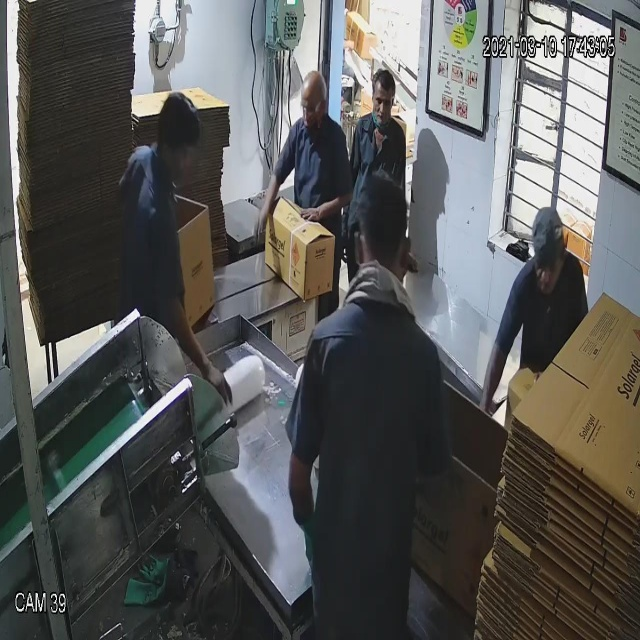Sin_guantes: (156, 277, 235, 432), (468, 316, 508, 416), (248, 176, 290, 257), (298, 173, 358, 225)
